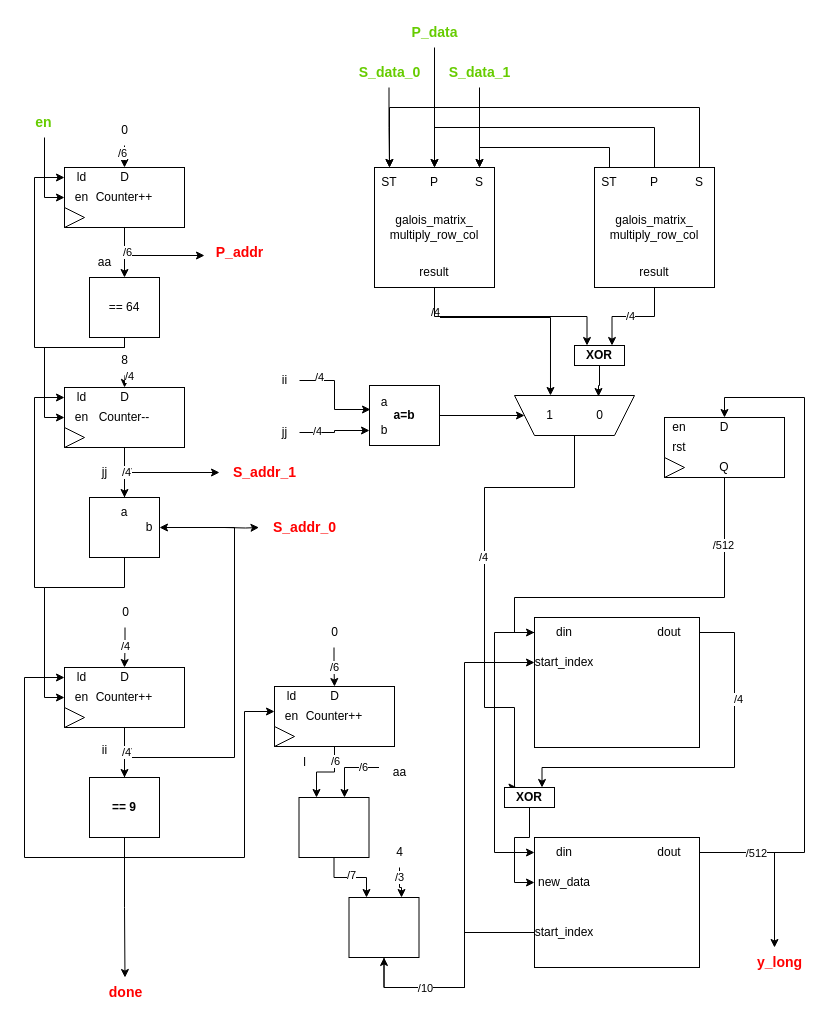
Image size: 832x1024. Some labels were removed from this diagram. Here are the shapes that lost their labels. From the top down, the box of each, then its label:
(88, 496, 160, 558): a > b
(534, 616, 700, 748): Get Index
(298, 796, 369, 858): addr
(534, 836, 700, 968): Replace at Index
(348, 896, 419, 958): multiply
